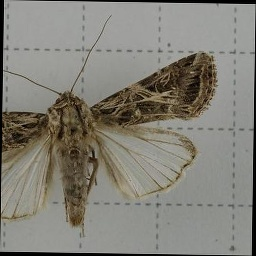Spodoptera litura: (2, 14, 219, 238)
